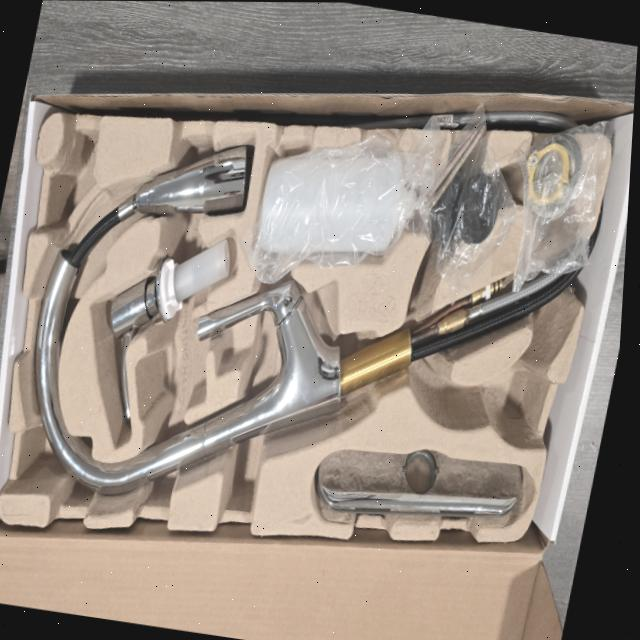1o: (33, 149, 593, 497)
2: (110, 239, 228, 422)
3o: (258, 145, 430, 259)
4: (315, 446, 521, 515)
5m: (483, 367, 540, 436)
6: (510, 116, 616, 298)
7: (408, 101, 521, 302)
